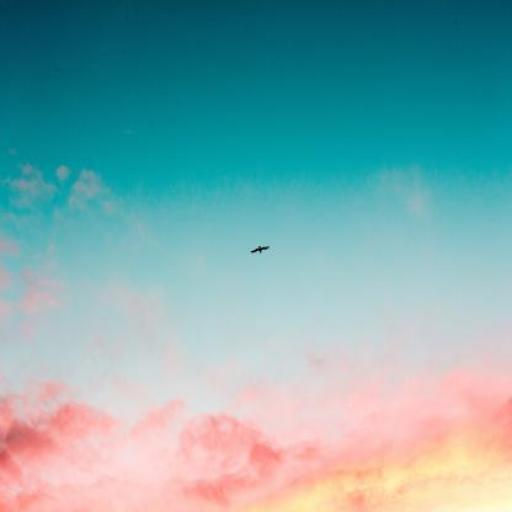bird: (249, 245, 270, 254)
